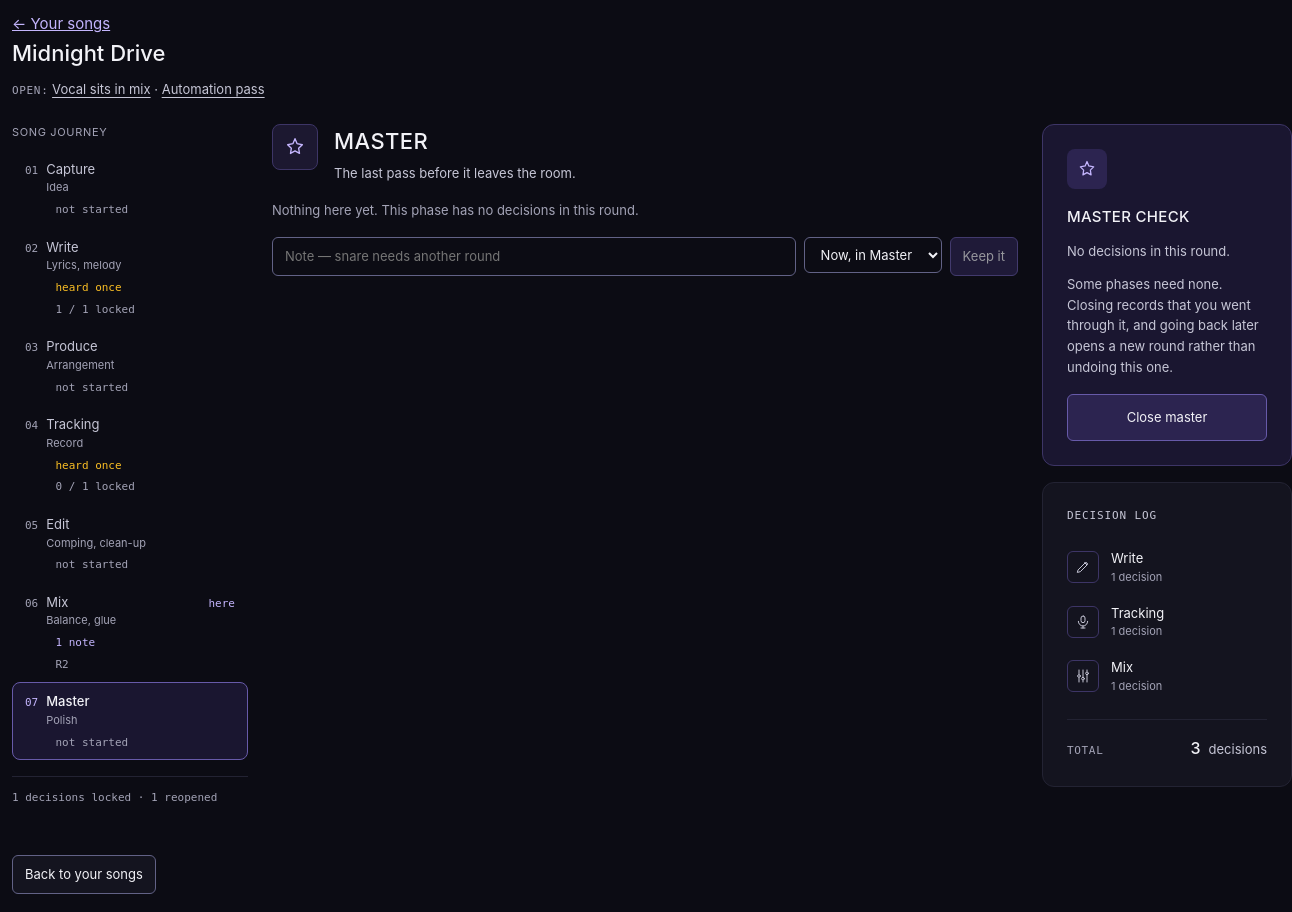
Scenario: the checkpoint on the phase › lets a phase with no decisions be closed, without a review it has no use for
The width and height of the screenshot is (1292, 912).
Expected: the heading "Master" is shown, 334,128 -> 428,154
Expected: the text "No decisions in this round." is shown, 1067,243 -> 1230,259
Click the button "Close master" at (1167, 417), box 1067,394 -> 1267,441
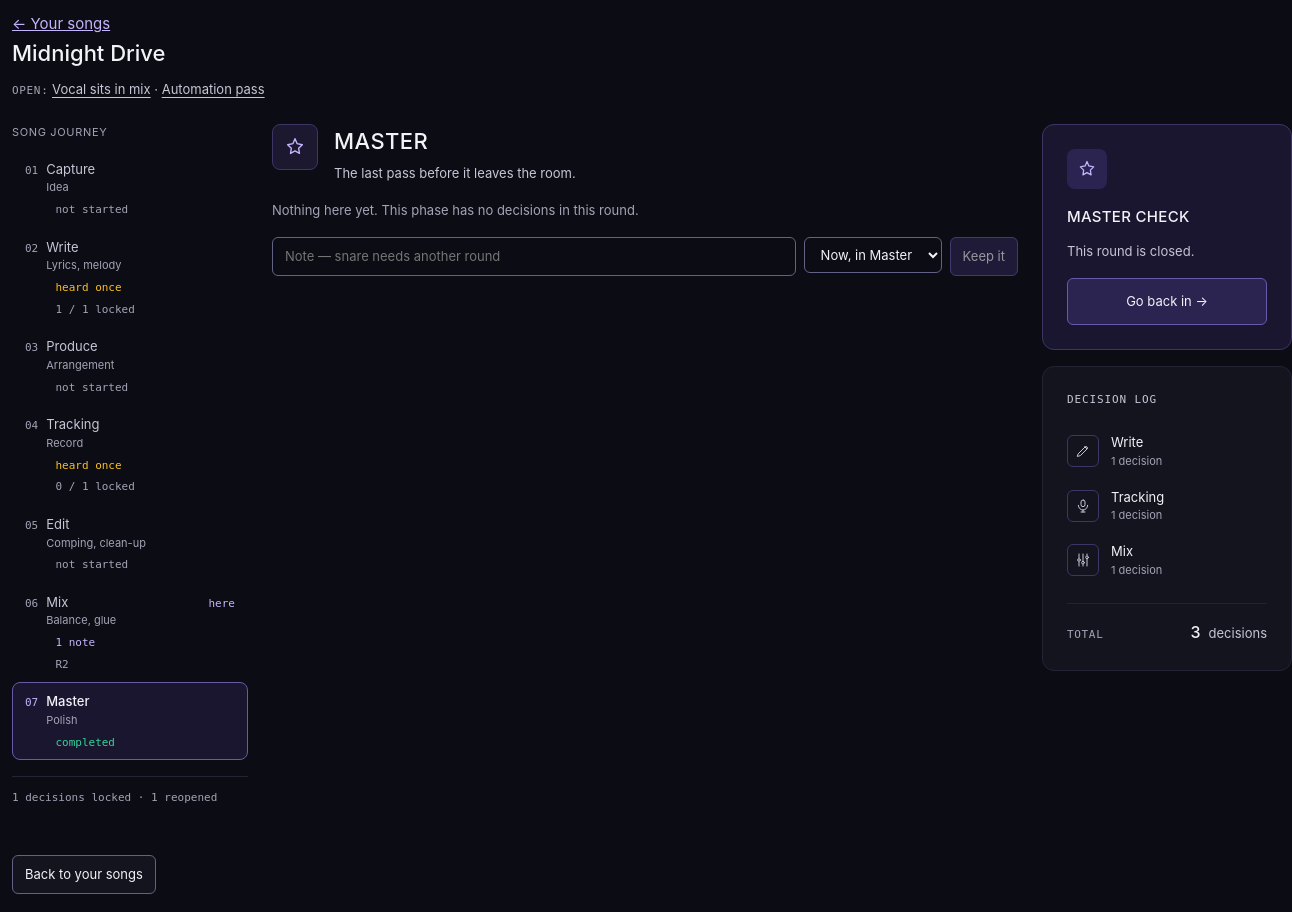
Now the text "This round is closed." is shown, box 1067,243 -> 1194,259
Now the link "Go back in →" is shown, box 1067,278 -> 1267,325
